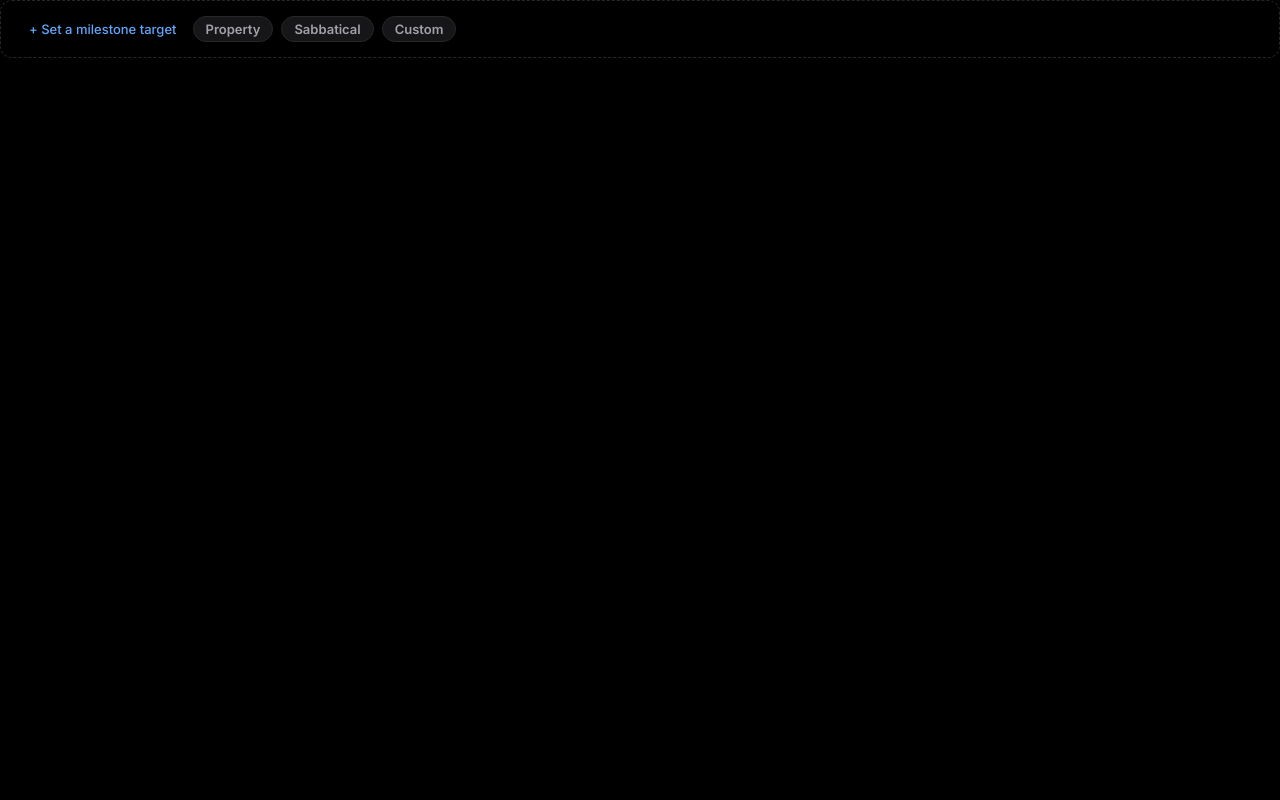
Scenario: CapitalHorizonCard: no milestone set › keeps the dialog open and says so when saving fails
Click the button "Sabbatical" at (328, 29), box left=281, top=16, right=374, bottom=42
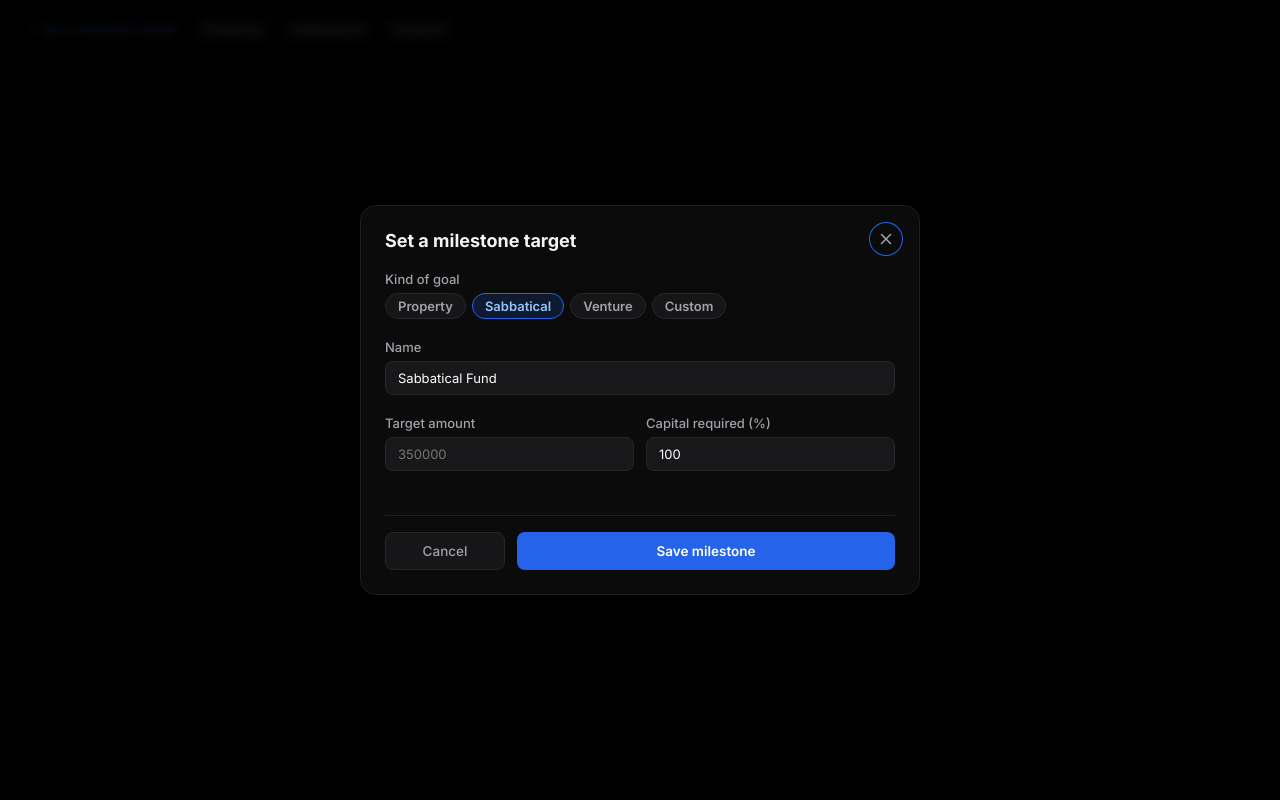
Type "40000" into the field labelled "Target amount" at (510, 454), box left=385, top=437, right=634, bottom=471
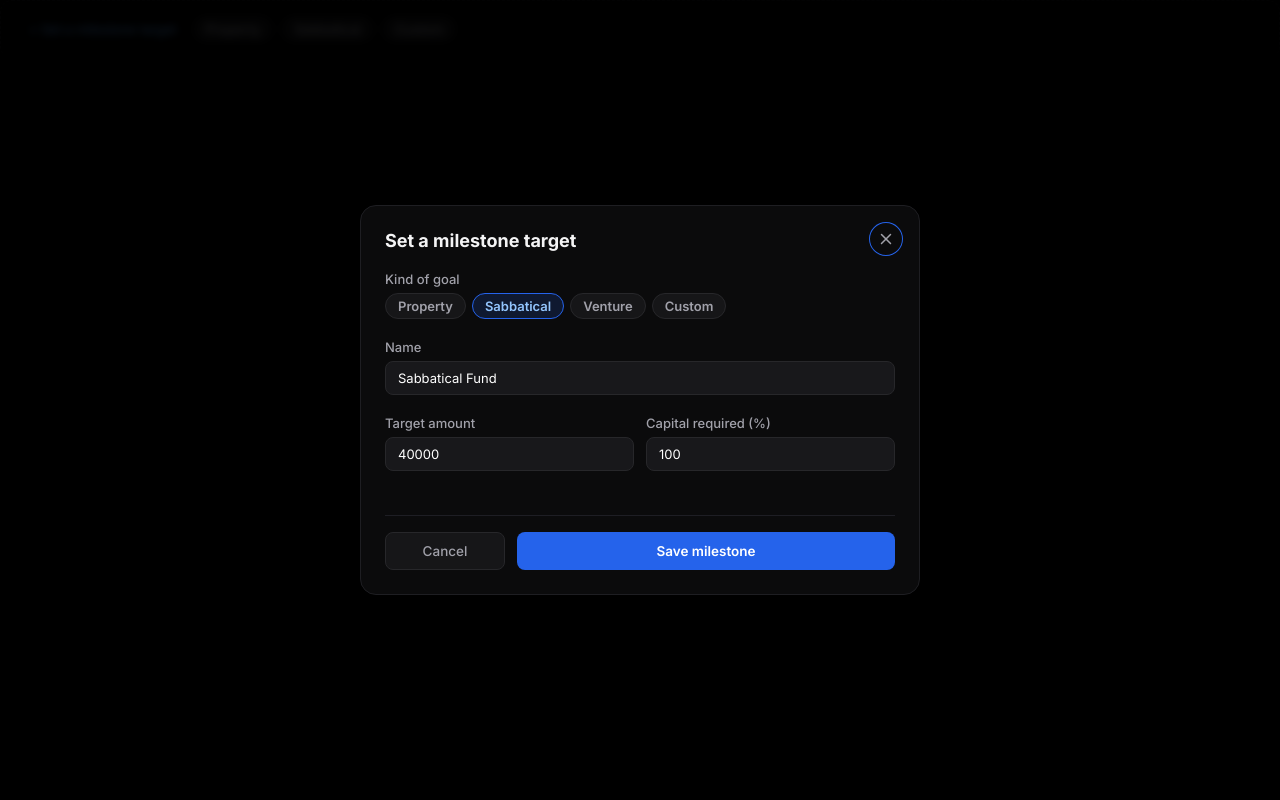
Click the button "Save milestone" at (706, 551), box left=517, top=532, right=895, bottom=570
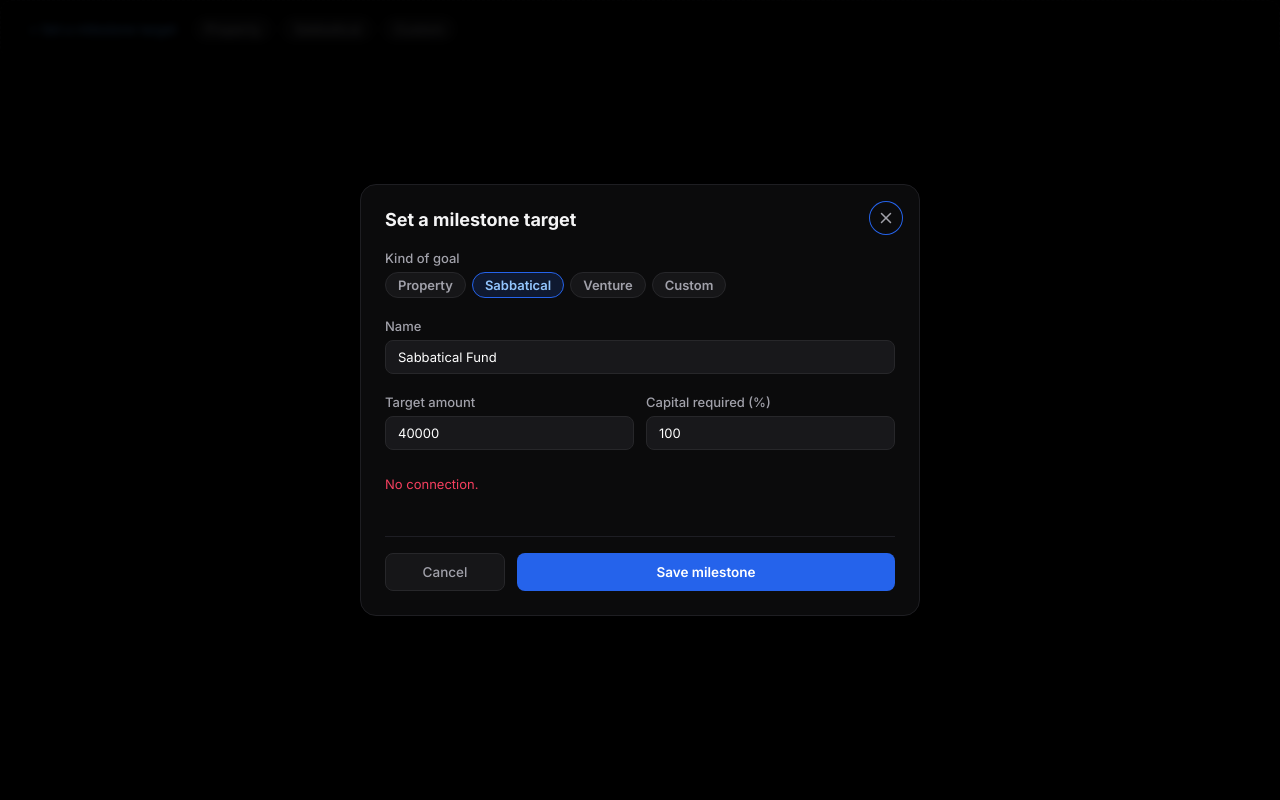
Result: the dialog is shown at left=360, top=184, right=920, bottom=616
Result: the message shows "connection" at left=385, top=476, right=478, bottom=492
